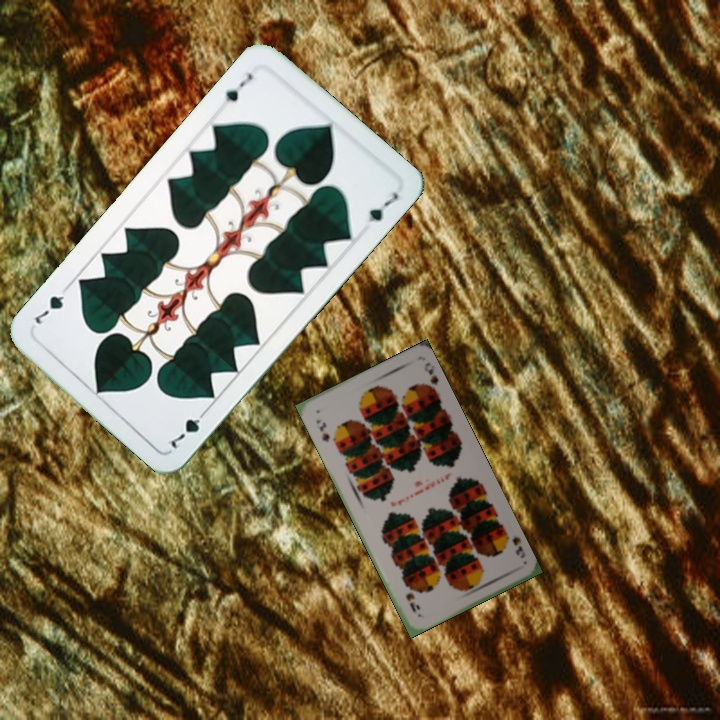G7: (163, 404, 211, 452), (221, 68, 256, 105)
S9: (502, 531, 528, 561), (312, 415, 332, 444)
